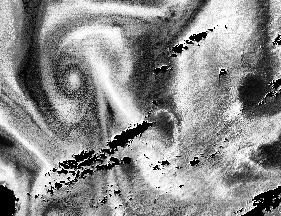CE: (37, 26, 130, 124)
